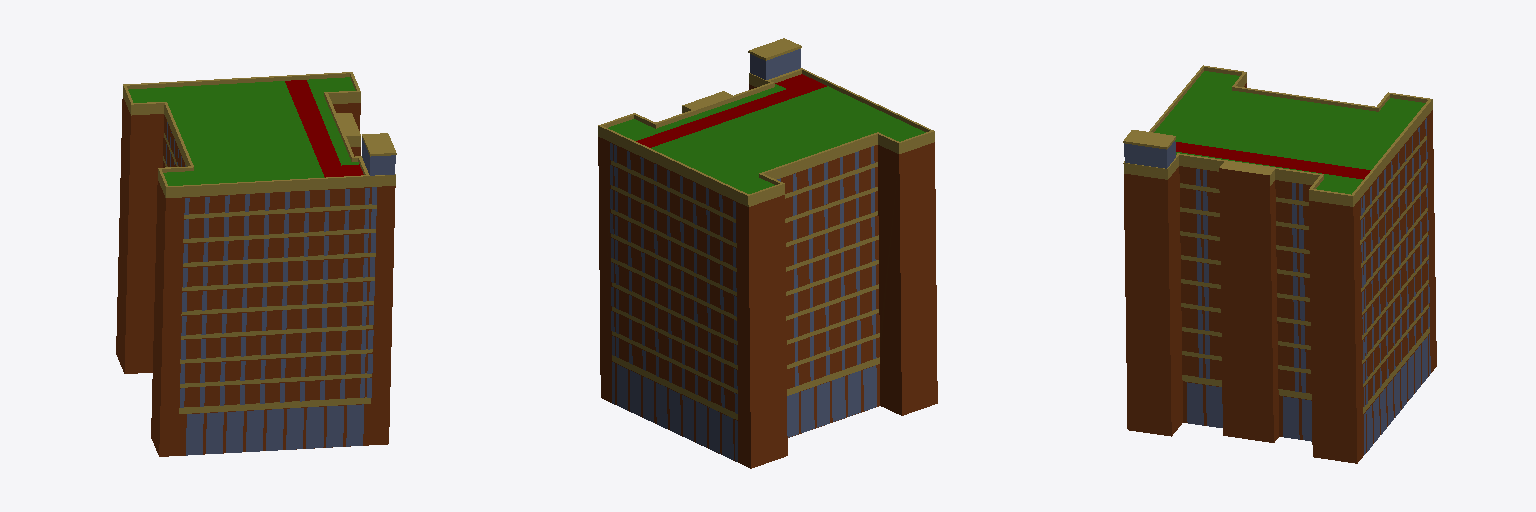
The model's file is Admin.obj.
3 views of the same model, side by side, from view 1: azimuth 30°, elevation 25°; view 2: azimuth 150°, elevation 25°; view 3: azimuth 270°, elevation 25° (orthographic).
Parts seen in each view (by area): view 1: SM_AdminBuilding, SM_AdminWndws; view 2: SM_AdminBuilding, SM_AdminWndws; view 3: SM_AdminBuilding, SM_AdminWndws.
Part boxes in pixels (bbox=[...]): SM_AdminBuilding: bbox=[116, 72, 396, 456]; SM_AdminWndws: bbox=[166, 122, 376, 455]; SM_AdminBuilding: bbox=[598, 38, 937, 468]; SM_AdminWndws: bbox=[610, 143, 876, 461]; SM_AdminBuilding: bbox=[1123, 65, 1436, 463]; SM_AdminWndws: bbox=[1187, 118, 1430, 454].
Bounding box in the file's own units: 3912 × 4108 × 3988.